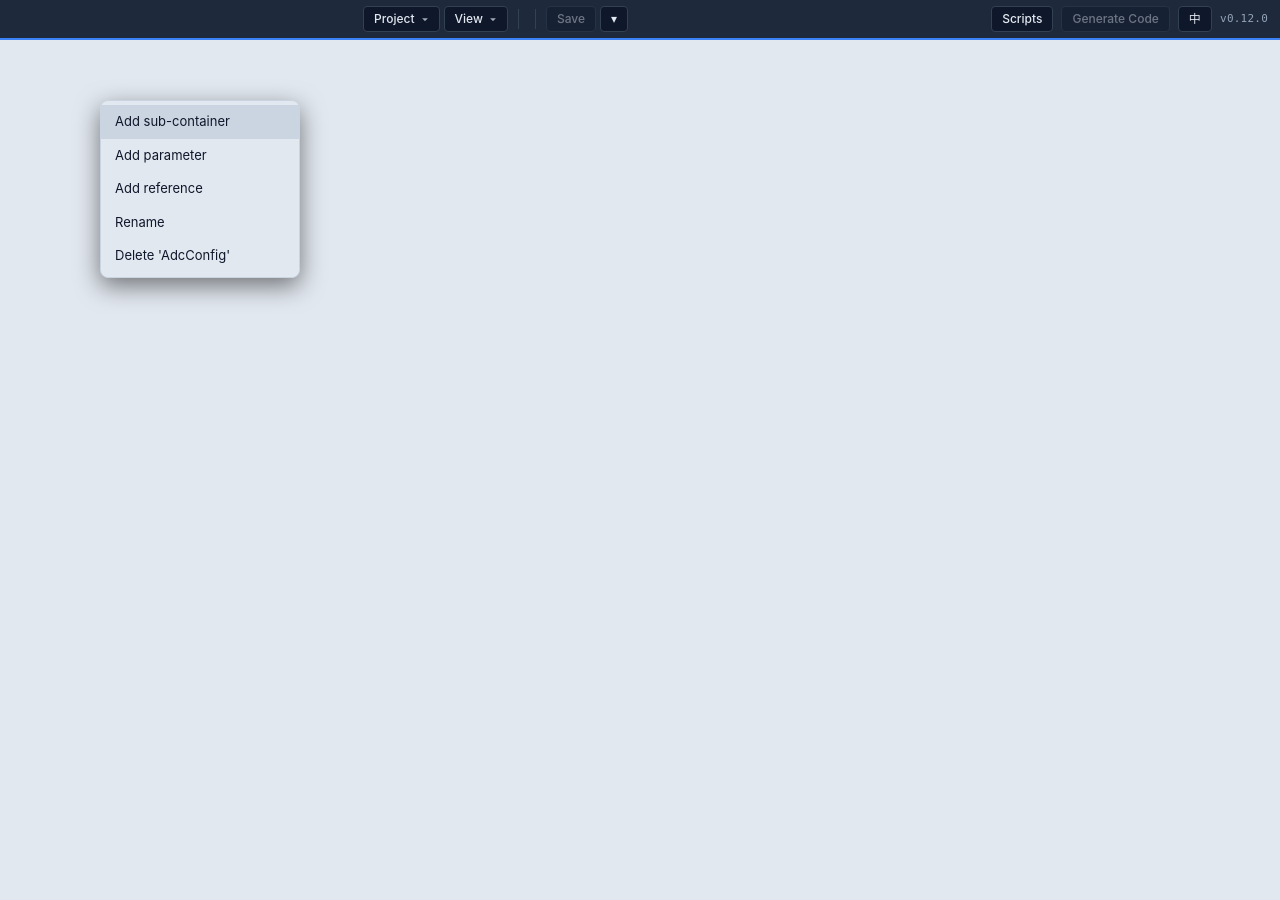
Test: App (Sprint A X2 — context menu + picker wiring) › routes add-container action to openBswmdPicker({ kind: "container" })
Expected: the menu with test id "context-menu" is shown, x1=100 y1=100 x2=300 y2=278
# Click "Add container" — should open the picker with kind 'container'.
Click the menu item with test id "context-menu-item-add-container".
click(200, 122)  # box x1=101 y1=105 x2=299 y2=138
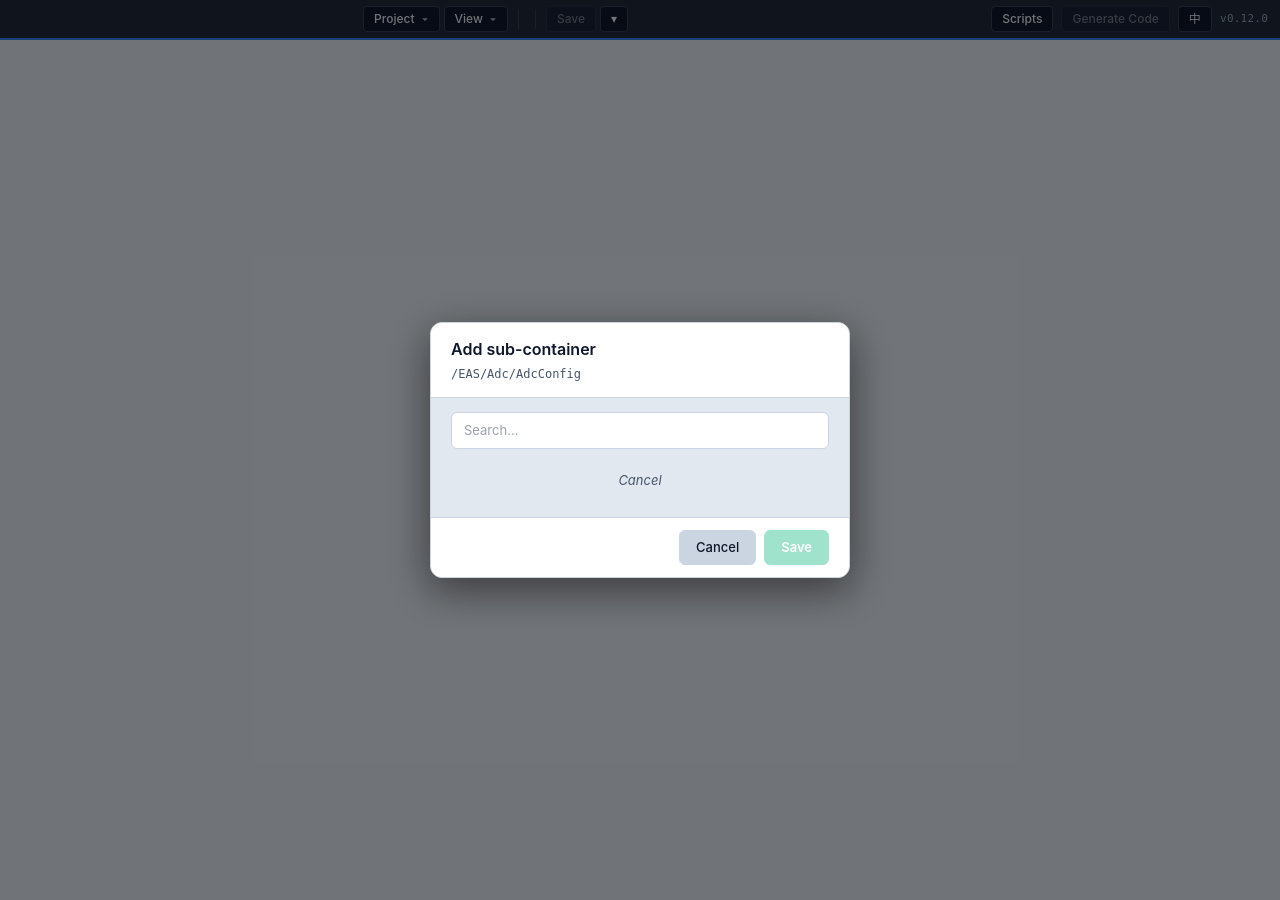
Now the element with test id "bspd-overlay" is shown
